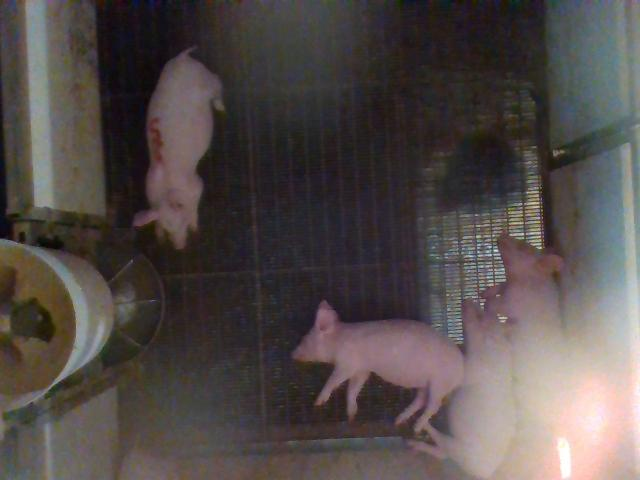pig-3: (132, 48, 224, 249)
